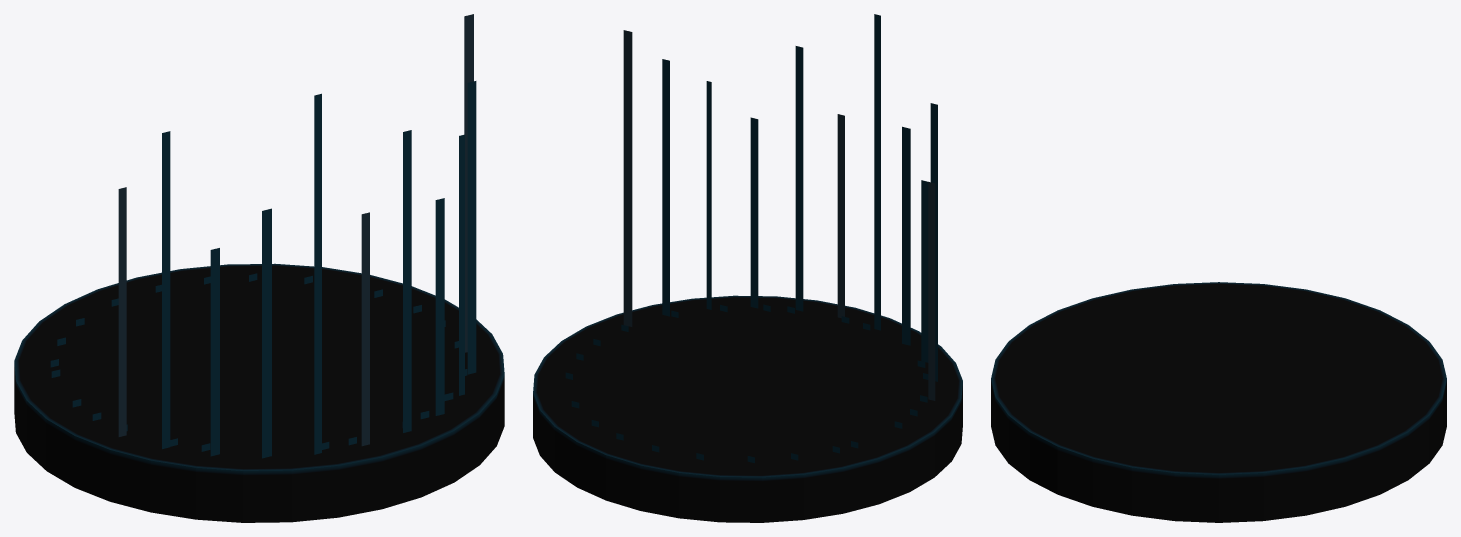
Rendered from seat.glb.
3 views of the same model, side by side, from view 1: azimuth 30°, elevation 25°; view 2: azimuth 150°, elevation 25°; view 3: azimuth 270°, elevation 25° (orthographic). The views are drawn at different scales.
Parts seen in each view (by area): view 1: seat_base, seat_back, seat_pts; view 2: seat_base, seat_back, seat_pts; view 3: seat_base.
Part boxes in pixels (x1=…): seat_base: x1=14, y1=263, x2=504, y2=522; seat_back: x1=118, y1=14, x2=476, y2=458; seat_pts: x1=50, y1=273, x2=467, y2=451; seat_base: x1=533, y1=295, x2=962, y2=522; seat_back: x1=623, y1=14, x2=937, y2=400; seat_pts: x1=565, y1=304, x2=928, y2=463; seat_base: x1=991, y1=282, x2=1446, y2=522.
Size of the model in its own units: 1.2 by 1.11 by 1.2.
